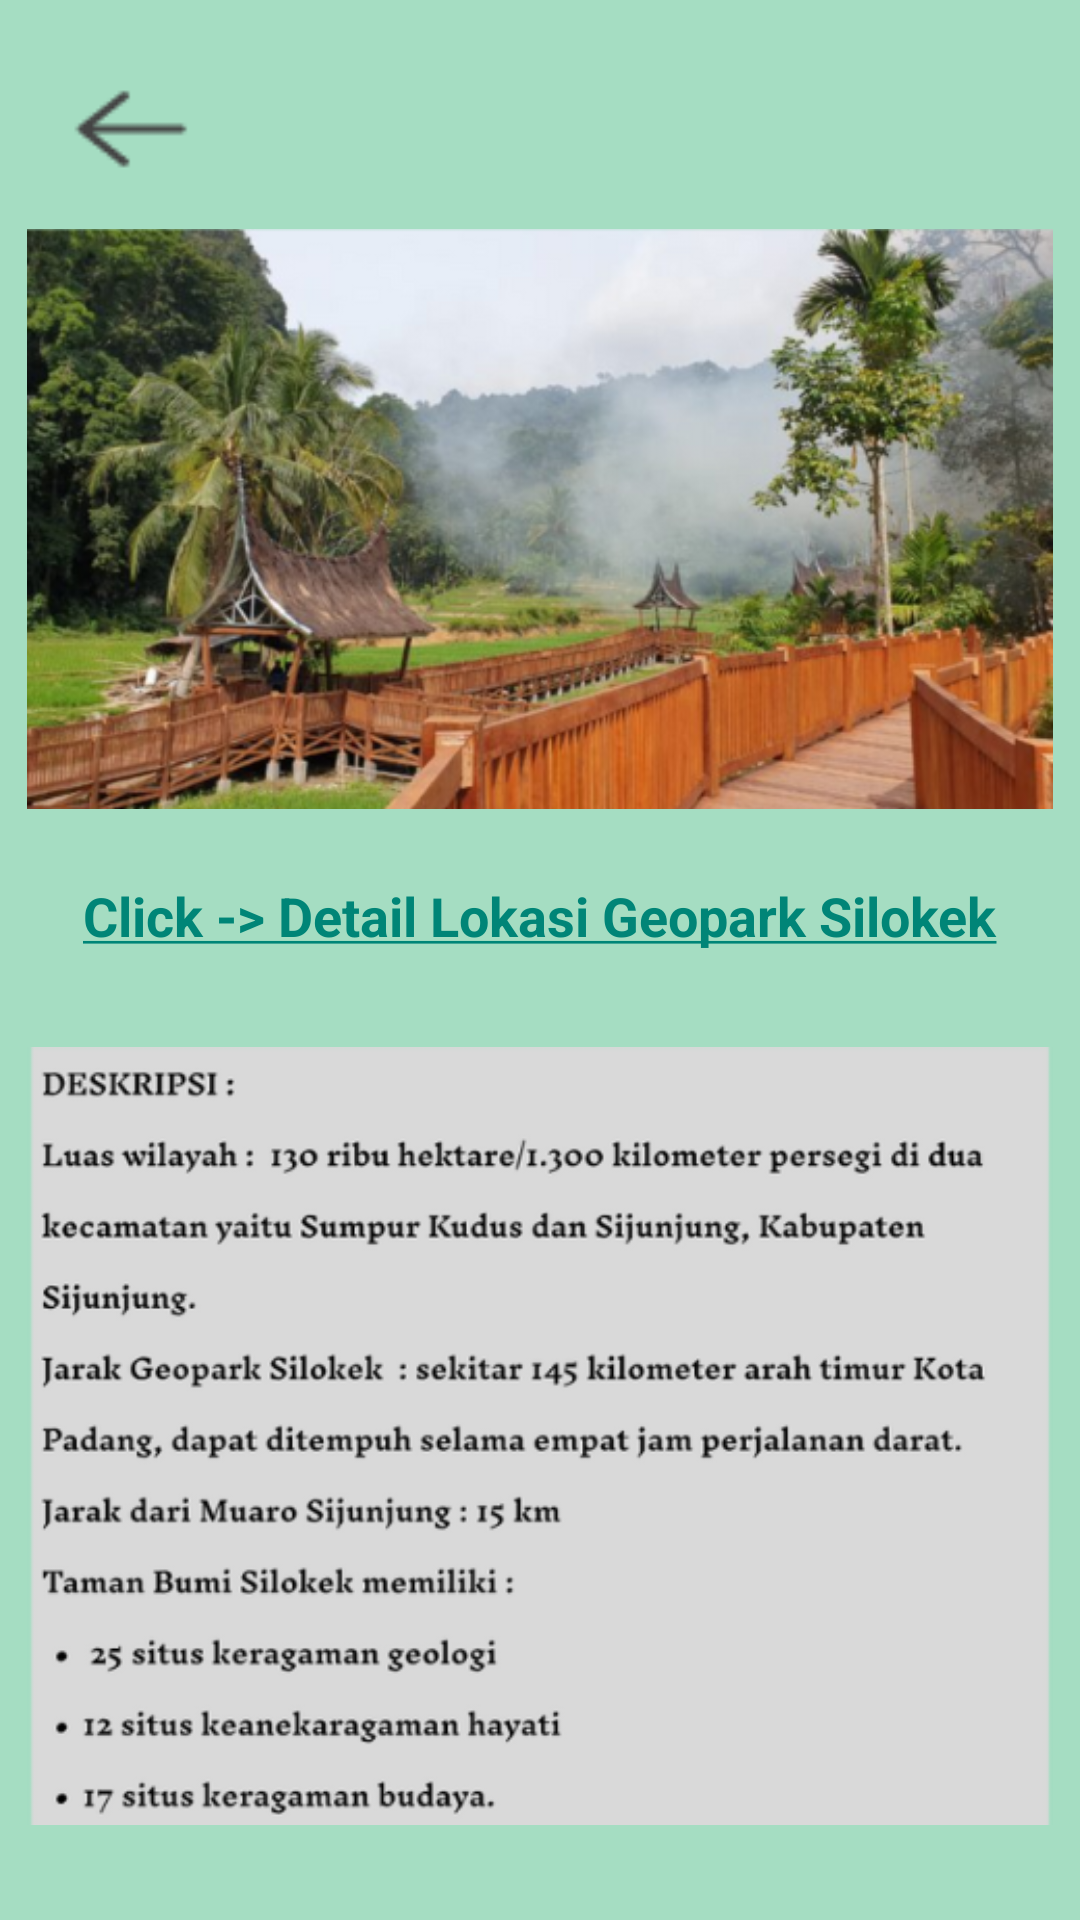

Icons on this 1080 x 1920 Android screen, each with the point to tap as (x,y):
back: (131,129)
